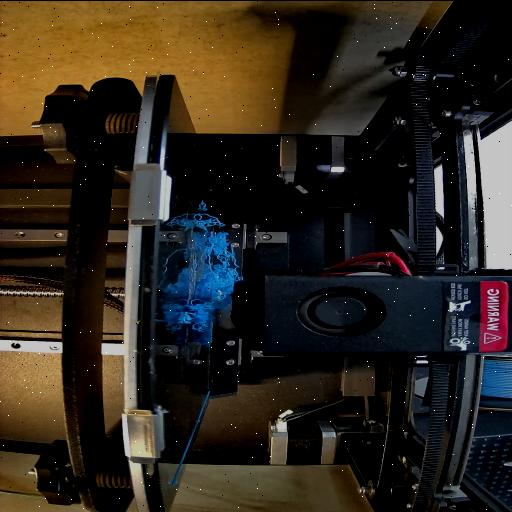spaghetti: (196, 229, 238, 301), (180, 298, 222, 332), (194, 212, 228, 232)
